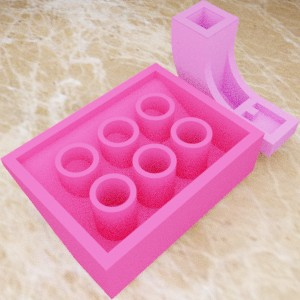lego: (0, 62, 265, 299), (171, 0, 299, 156)
